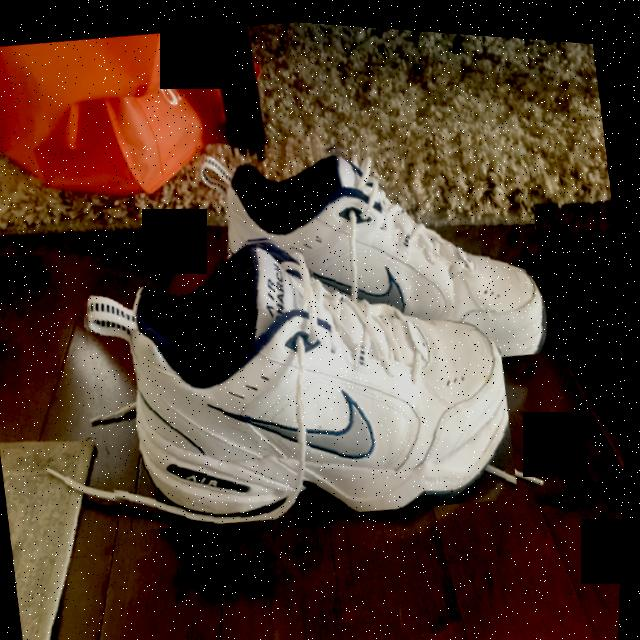shoe: (66, 183, 530, 555), (191, 97, 561, 395)
